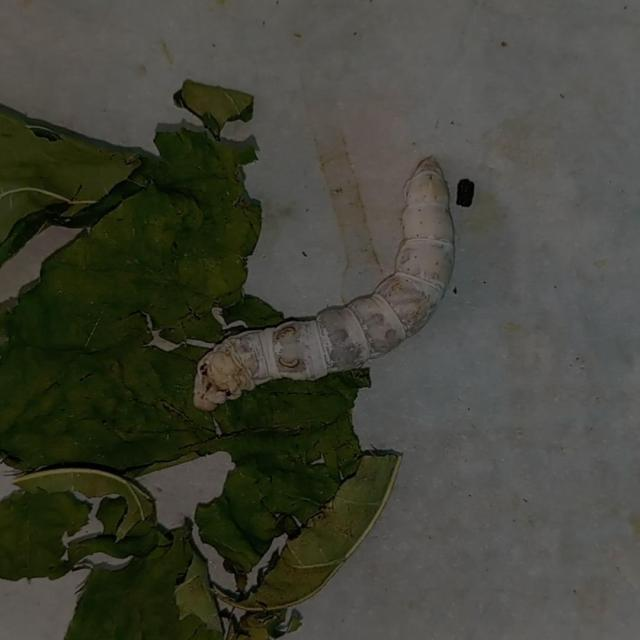Grasserie: (182, 147, 470, 417)
